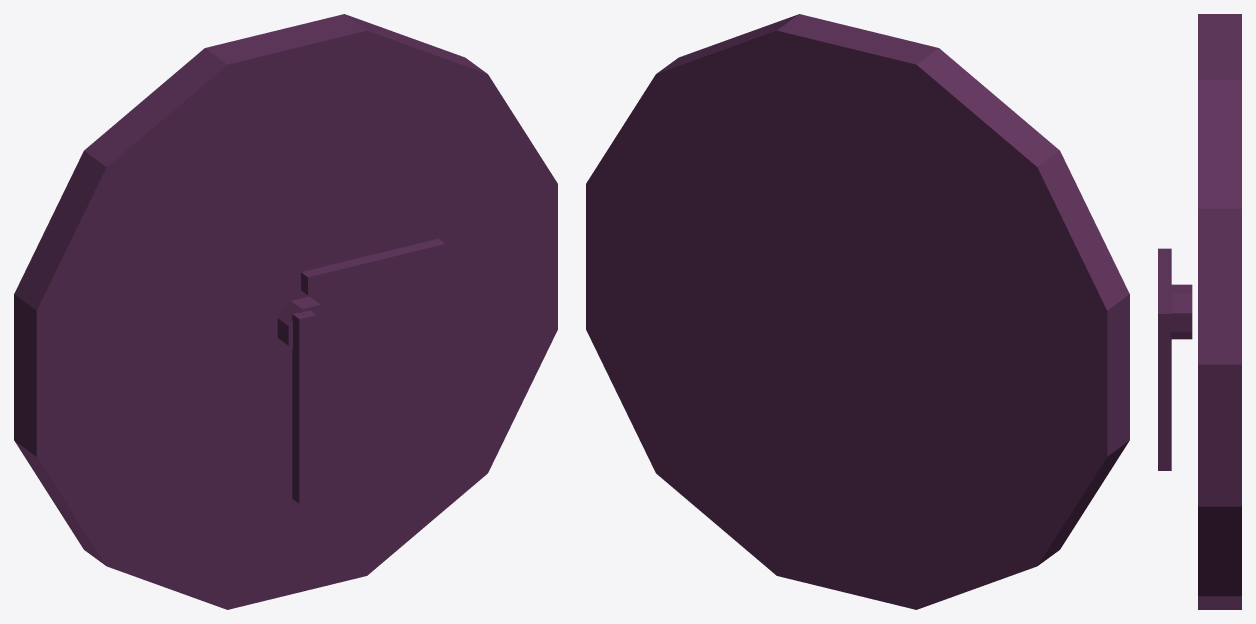
The model's file is analog-clock.obj.
3 views of the same model, side by side, from view 1: azimuth 30°, elevation 25°; view 2: azimuth 150°, elevation 25°; view 3: azimuth 270°, elevation 25° (orthographic). The views are drawn at different scales.
Visible parts, largest first — view 1: faceted-clock-face, minute-hand, hour-hand, clock-center-pin; view 2: faceted-clock-face; view 3: faceted-clock-face, minute-hand, clock-center-pin, hour-hand.
Boxes of the visible parts, left/top/right/bottom form: faceted-clock-face: left=14, top=14, right=557, bottom=609; minute-hand: left=292, top=310, right=316, bottom=503; hour-hand: left=301, top=239, right=445, bottom=295; clock-center-pin: left=277, top=296, right=333, bottom=352; faceted-clock-face: left=586, top=14, right=1129, bottom=609; faceted-clock-face: left=1198, top=14, right=1241, bottom=609; minute-hand: left=1158, top=331, right=1171, bottom=470; clock-center-pin: left=1170, top=284, right=1192, bottom=339; hour-hand: left=1158, top=248, right=1171, bottom=331.
Size of the model in its own units: 1.06 by 1.06 by 0.1525.
